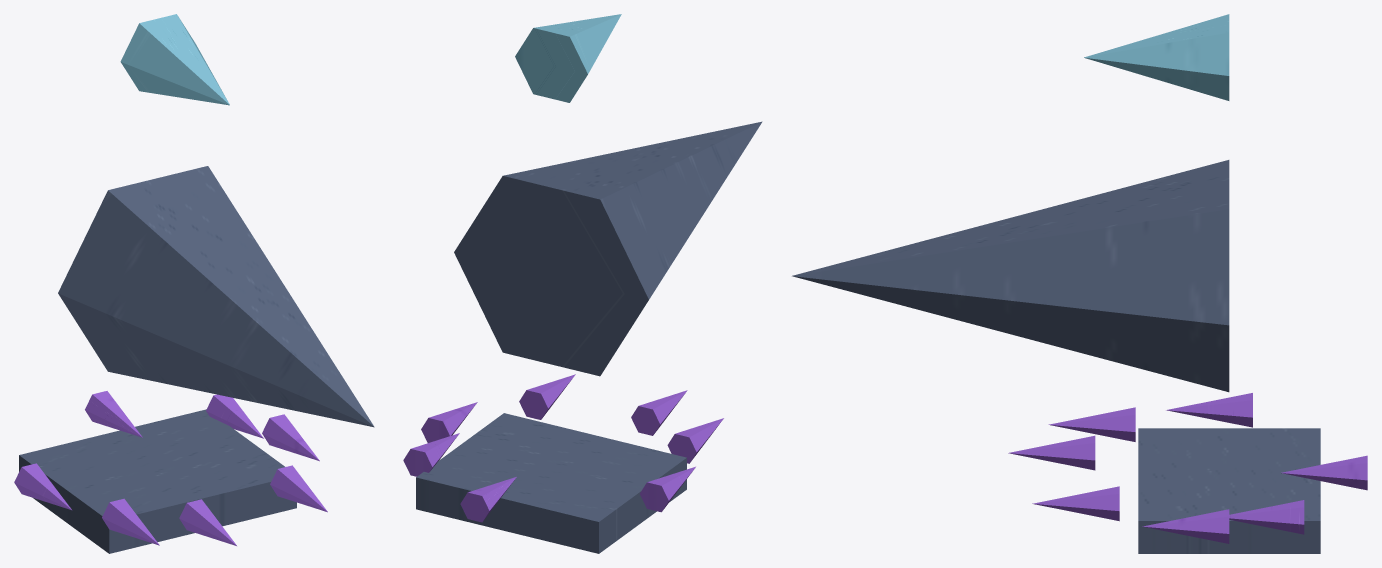
File: frost_waystone.obj
3 views of the same model, side by side, from view 1: azimuth 30°, elevation 25°; view 2: azimuth 150°, elevation 25°; view 3: azimuth 270°, elevation 25° (orthographic). The views are drawn at different scales.
Size of the model in its own units: 4.25 by 7.32 by 7.89.
1 material, 1 textured.
